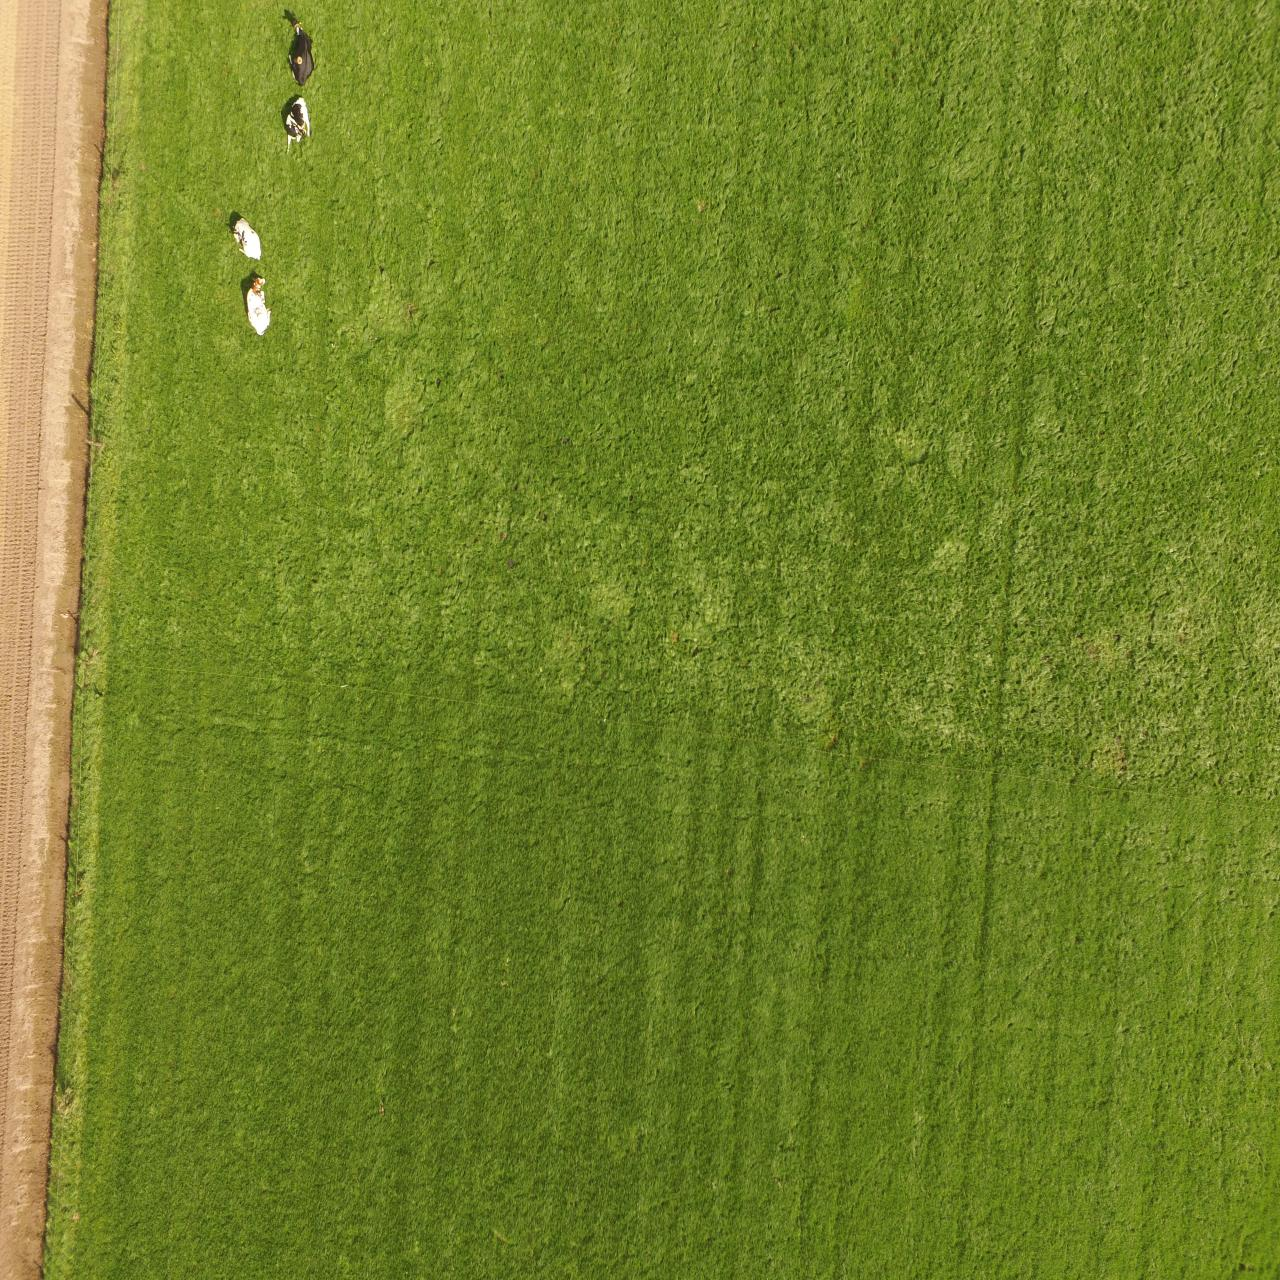cow: (290, 15, 314, 87), (246, 275, 274, 336), (285, 96, 311, 151), (230, 216, 261, 260)
